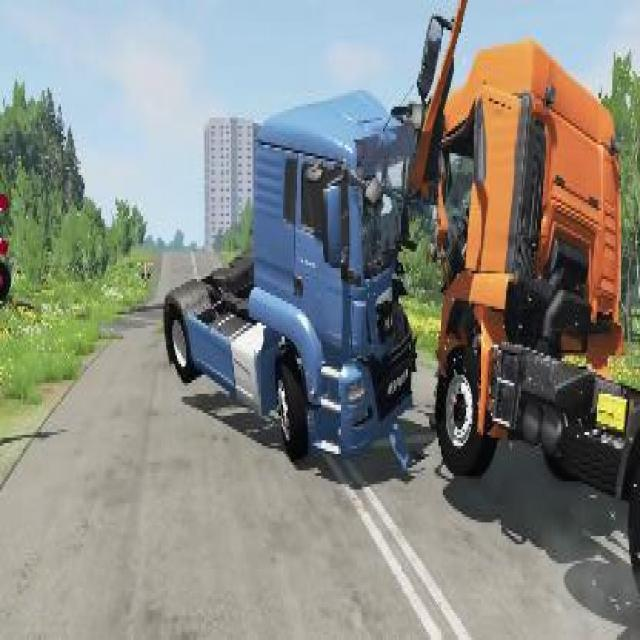accident: (152, 0, 638, 577)
